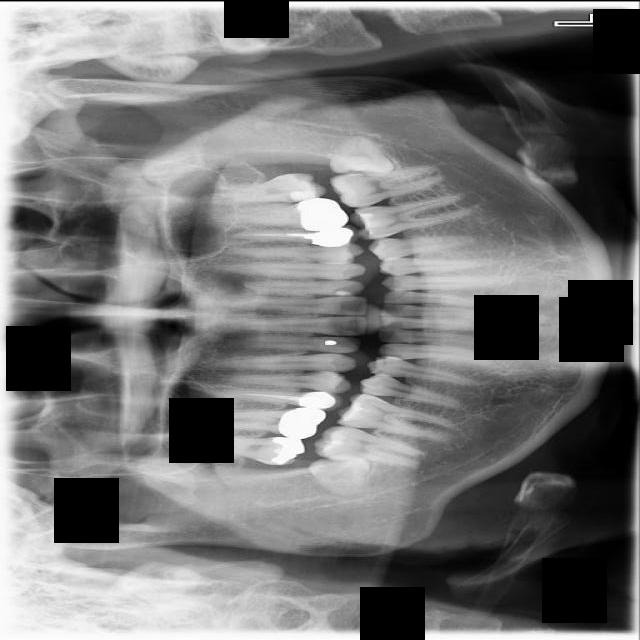52: (333, 385, 392, 439), (293, 192, 351, 234), (346, 201, 403, 241), (271, 169, 328, 203), (277, 403, 327, 441), (252, 434, 306, 467), (291, 385, 344, 412), (306, 222, 360, 248), (313, 335, 362, 353), (318, 278, 365, 295)
73: (566, 46, 580, 52)
BioHorizons Implant: (198, 170, 329, 206)
Biomet 3i Implant: (329, 130, 399, 179)
Blue Sky Bio Implant: (328, 162, 445, 210)
Caries: (184, 432, 305, 466)
Implant: (312, 420, 427, 468)
Keystone Dental Implant: (301, 437, 373, 505)
